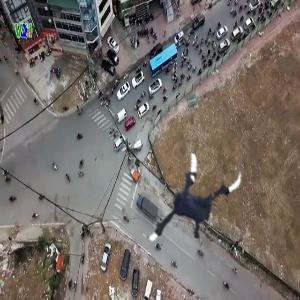drone: (131, 137, 251, 257)
